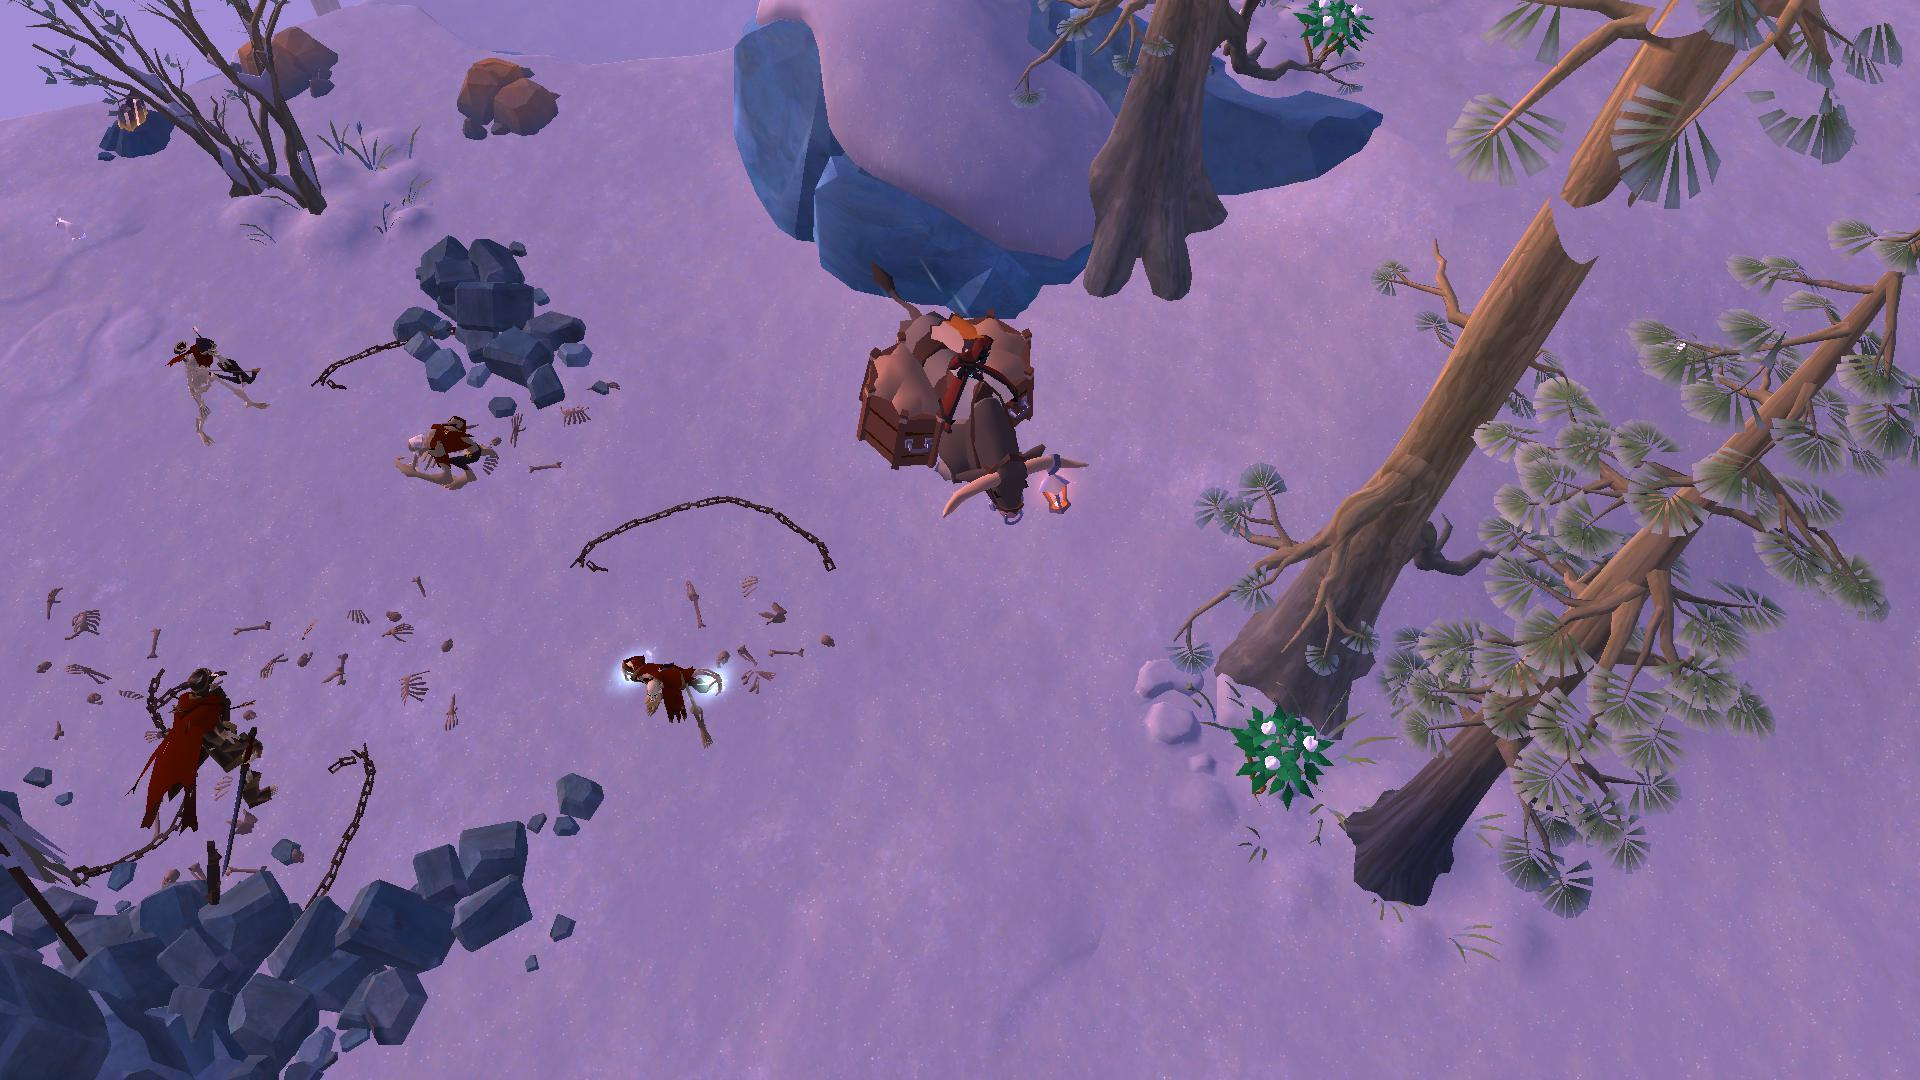enemy_factionUndead: (117, 669, 273, 849), (616, 645, 732, 748), (166, 334, 264, 443), (398, 413, 492, 495)
fiber_t3: (1234, 708, 1331, 814), (1300, 0, 1371, 79)
